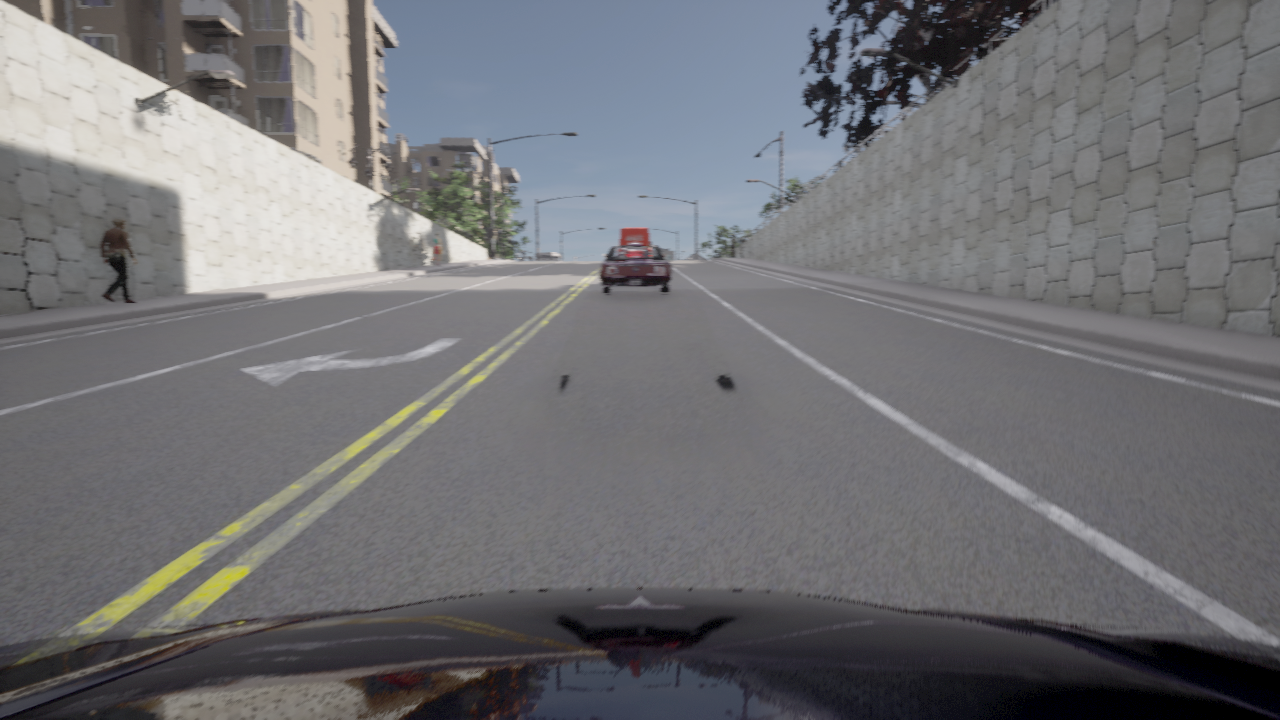cyclist: (0, 588, 1279, 719), (600, 245, 671, 293), (620, 228, 648, 245), (628, 242, 641, 244)
pedestrian: (99, 217, 136, 303), (431, 232, 441, 265), (730, 233, 736, 257)
